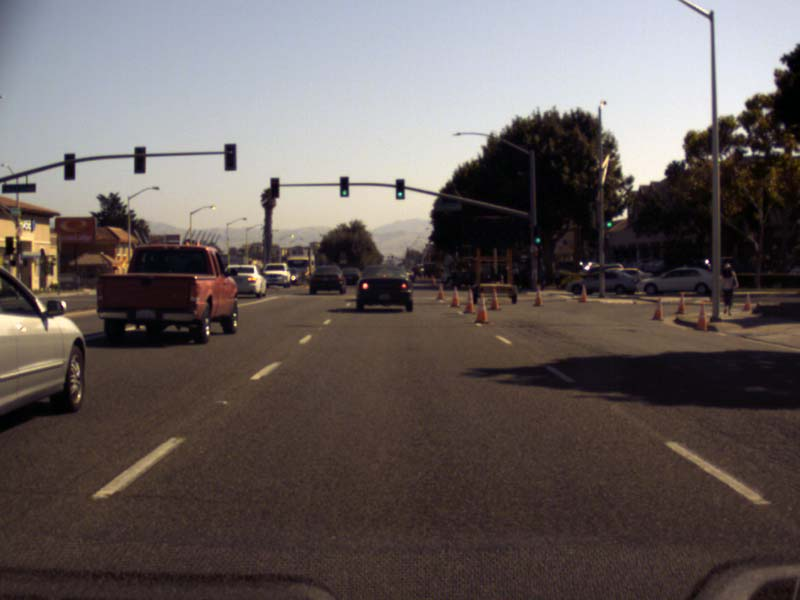Green: (395, 178, 405, 200), (533, 224, 543, 246), (339, 176, 349, 196), (604, 211, 612, 229)
